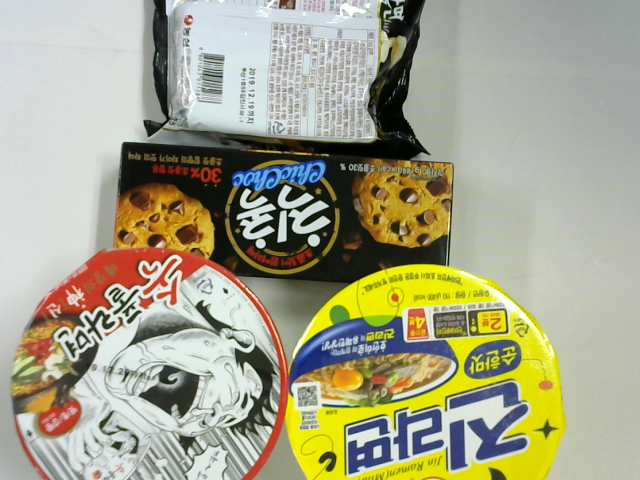Chicchok_Original_2400: (114, 141, 454, 283)
Hejangpul: (11, 247, 289, 480)
Jinlamyeon_Mild_Taste_Large_Cup: (284, 263, 566, 480)
Potato: (143, 1, 431, 159)
